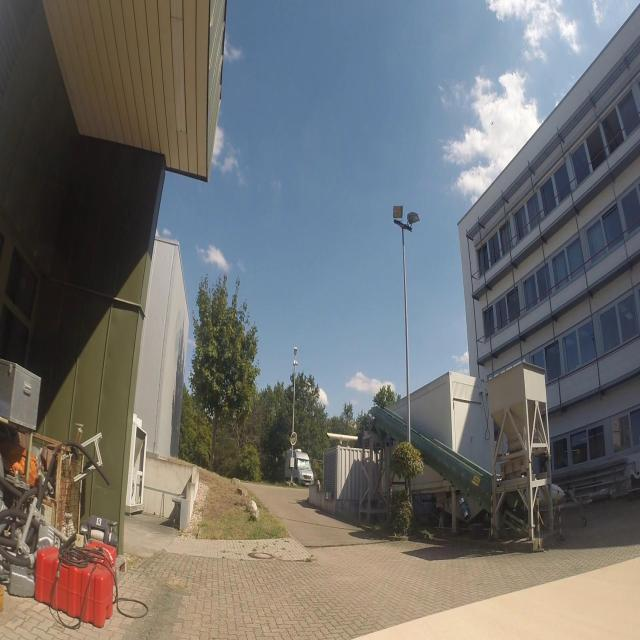drone: (487, 115, 498, 131)
